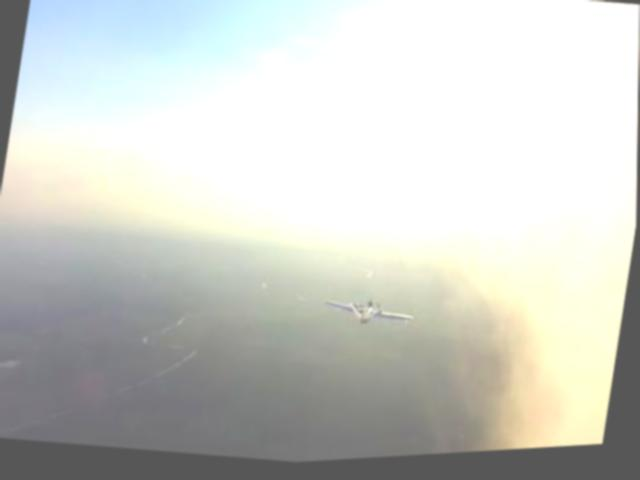uav: (319, 290, 421, 340)
